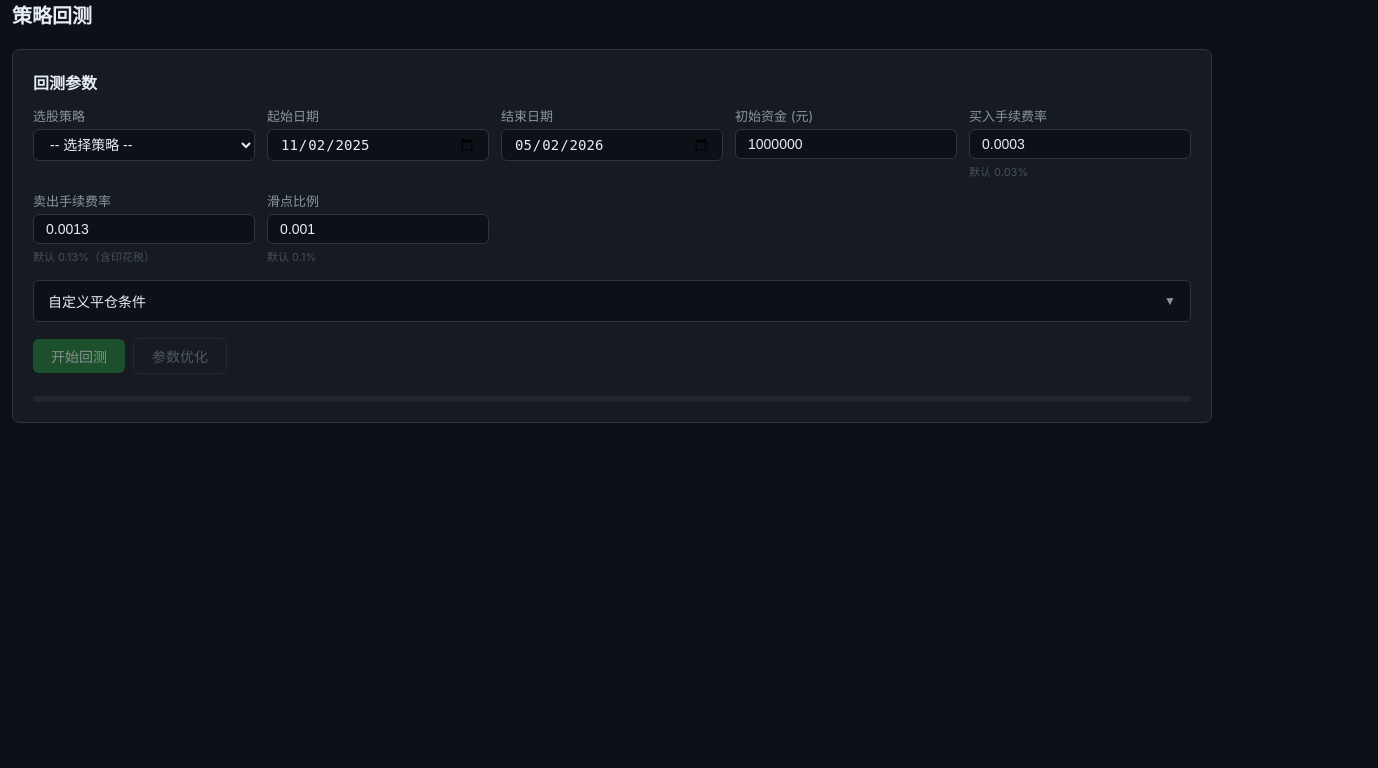
Scenario: BacktestView - 相对值阈值 UI 配置 › 切换到相对值模式时显示基准字段下拉框和乘数因子输入框
Click the button "自定义平仓条件 ▼" at [97, 302], box 34,281 -> 1190,321
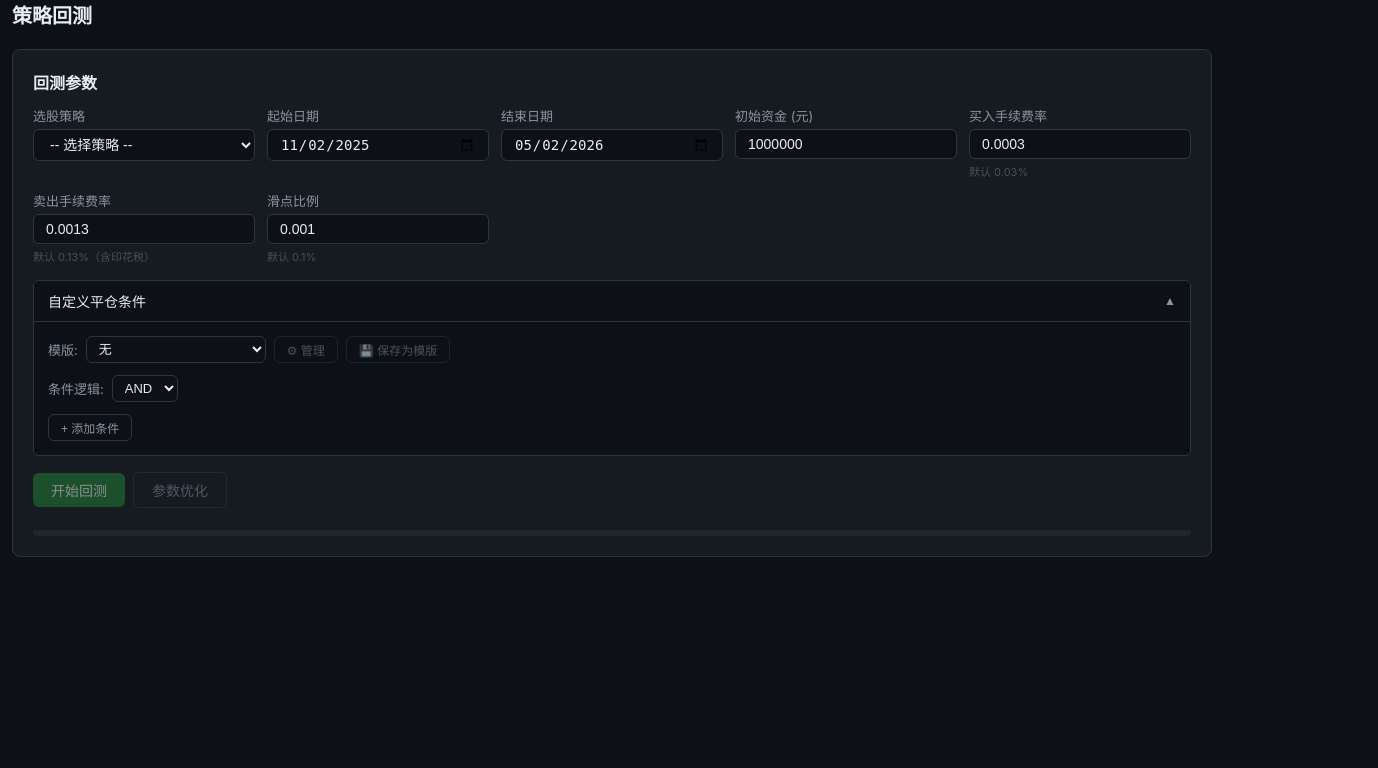
Click the button with aria-label "添加平仓条件" at [90, 428], box 48,414 -> 132,441
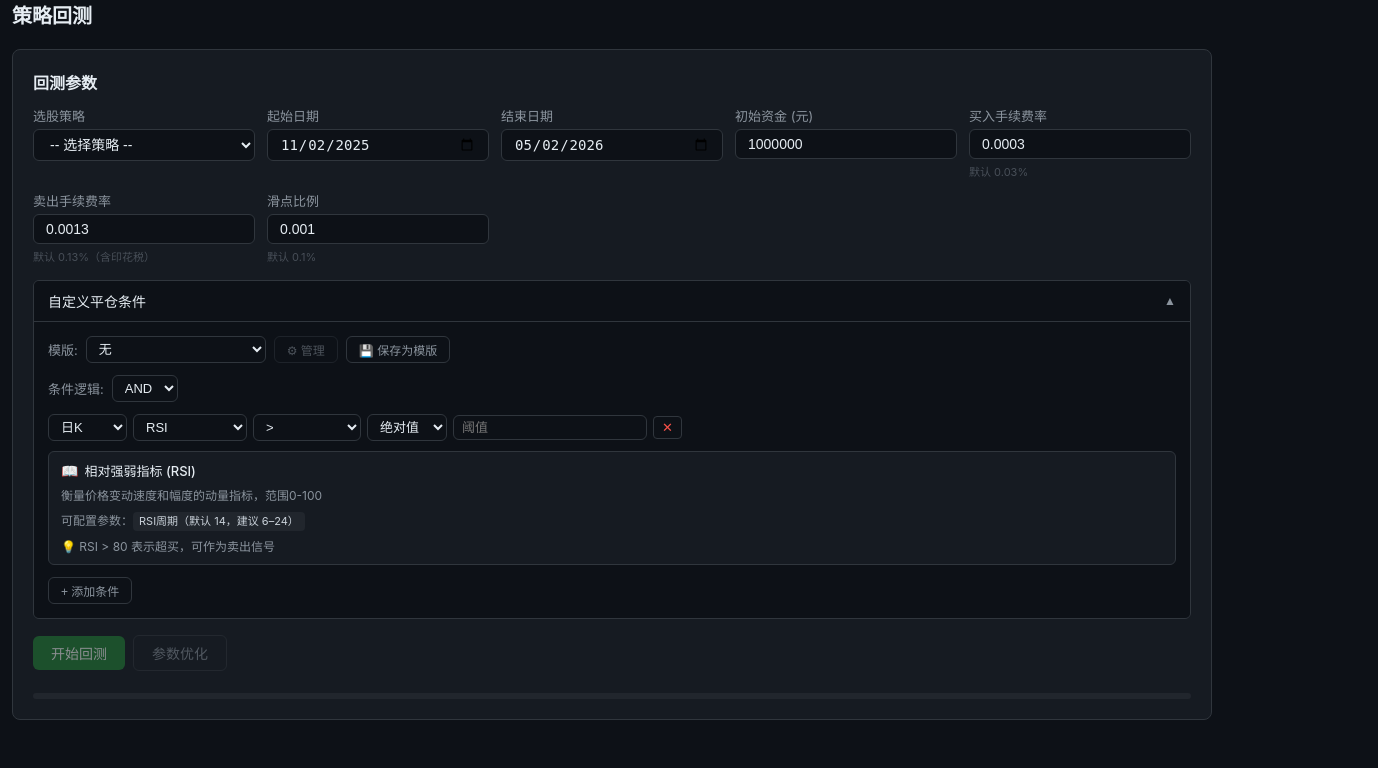
Expected: the number field named "条件1阈值" is shown, 453,415 -> 647,440
切换到相对值模式
Select "相对值" in the dropdown named "条件1阈值模式" at [407, 428], box 367,414 -> 447,441
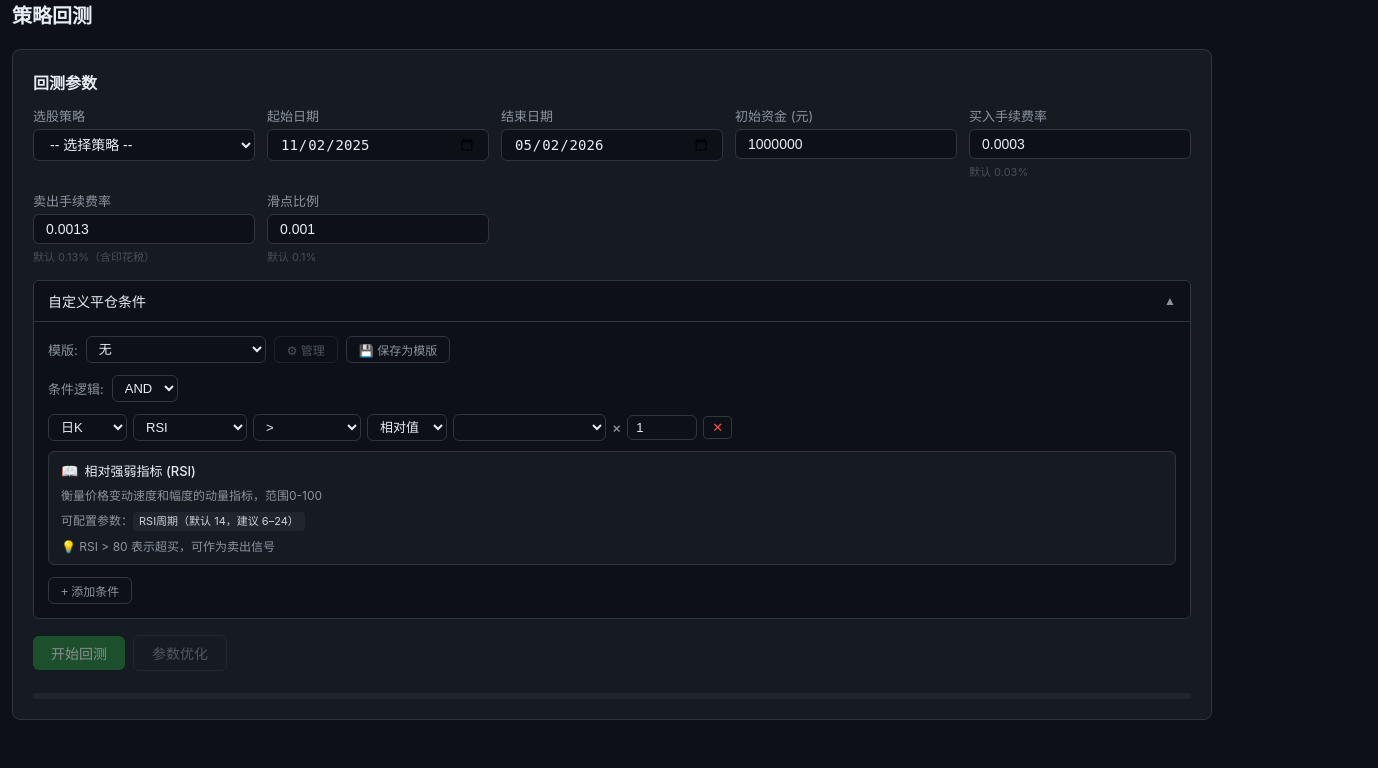
Expected: the number field named "条件1乘数因子" is shown, 627,415 -> 697,440
Expected: the dropdown named "条件1基准字段" is shown, 453,414 -> 606,441
